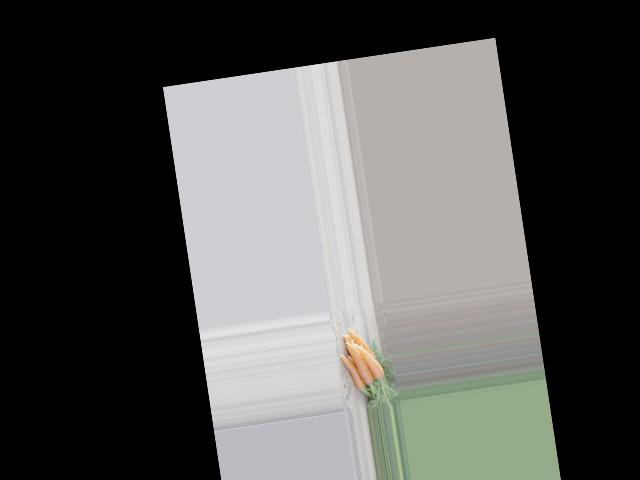carrot: (338, 346, 367, 393)
